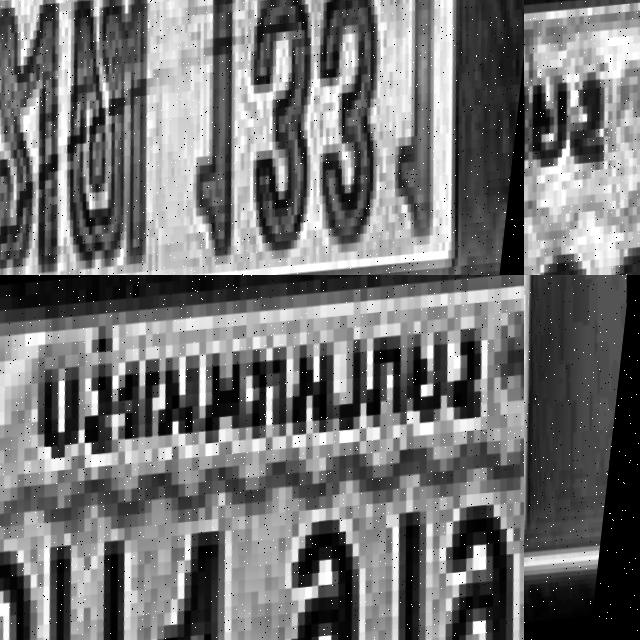license-plate: (0, 275, 524, 640), (0, 0, 524, 275), (524, 275, 640, 630), (524, 0, 640, 275)
